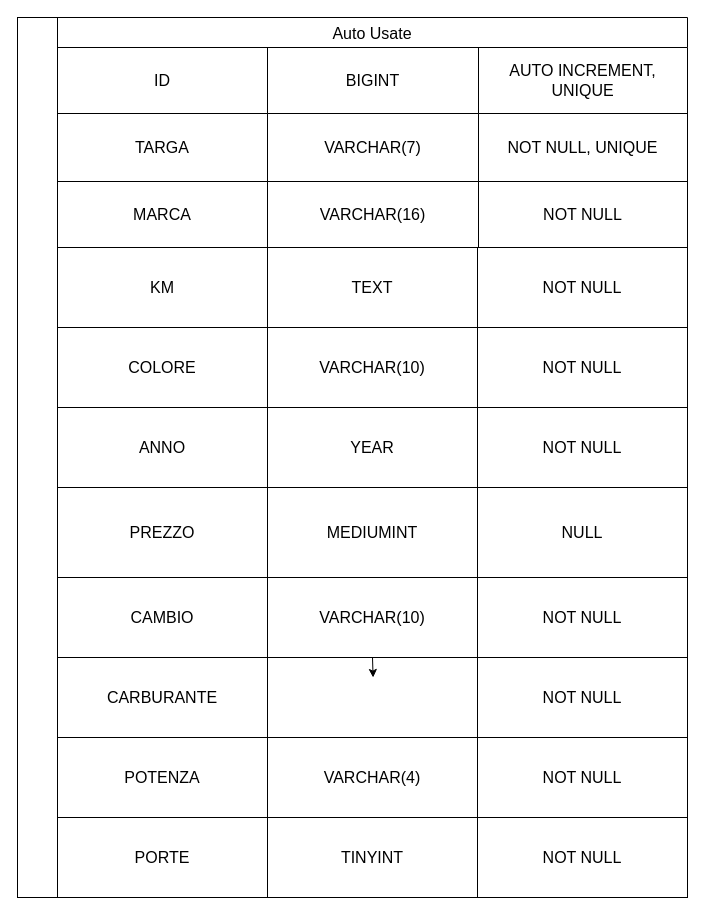
Image size: 705x915. Some labels were removed from this diagram. The shapes that lost their labels are listed below. From the top down, each one's centre as x and y in pixels, then its label:
(37,457): PK
(372,697): VARCHAR(9)
